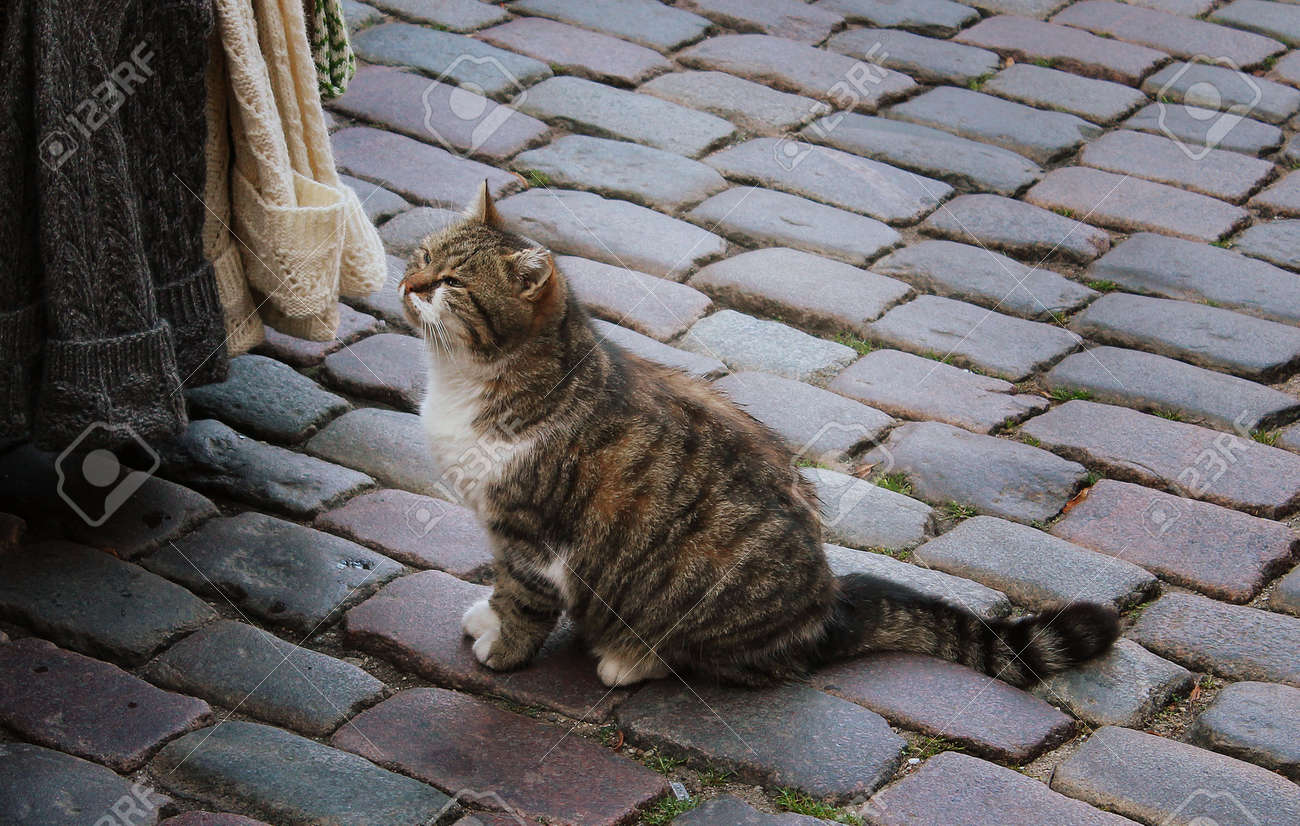cat: (346, 173, 1127, 686)
